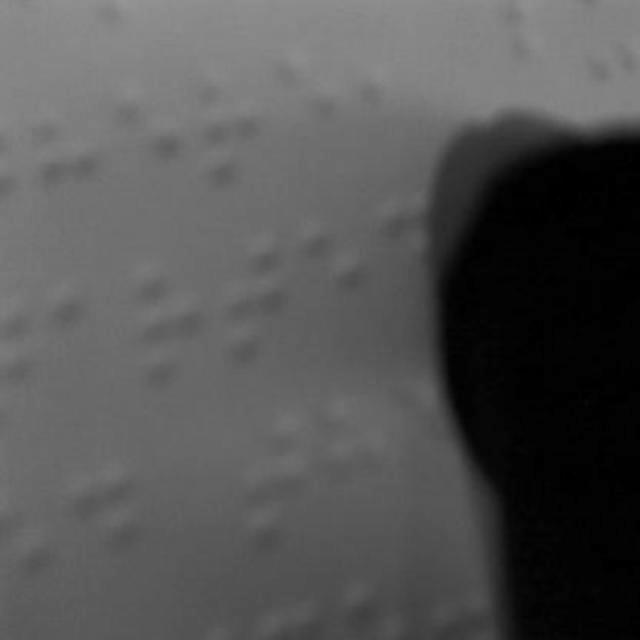braiile: (26, 98, 98, 234), (250, 404, 318, 548), (200, 75, 270, 202), (120, 80, 188, 208), (280, 42, 344, 172), (306, 212, 368, 338)
